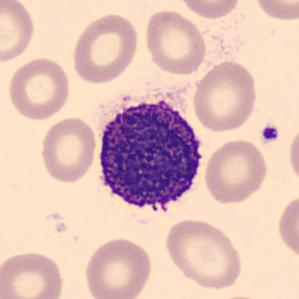Basophil: (90, 90, 212, 225)
Platelets: (259, 122, 281, 144)
RBC: (162, 216, 245, 290), (70, 11, 141, 85), (190, 58, 259, 134), (202, 136, 270, 206), (81, 234, 154, 299), (5, 54, 72, 122), (142, 7, 208, 76), (37, 115, 98, 184), (0, 247, 67, 299), (0, 0, 37, 64), (275, 191, 298, 262), (175, 0, 244, 20), (252, 0, 298, 22), (285, 122, 299, 189), (205, 293, 276, 299)
